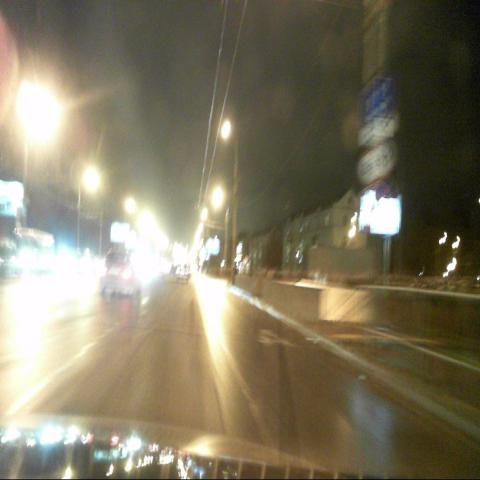8_5_2: (372, 119, 394, 139)
